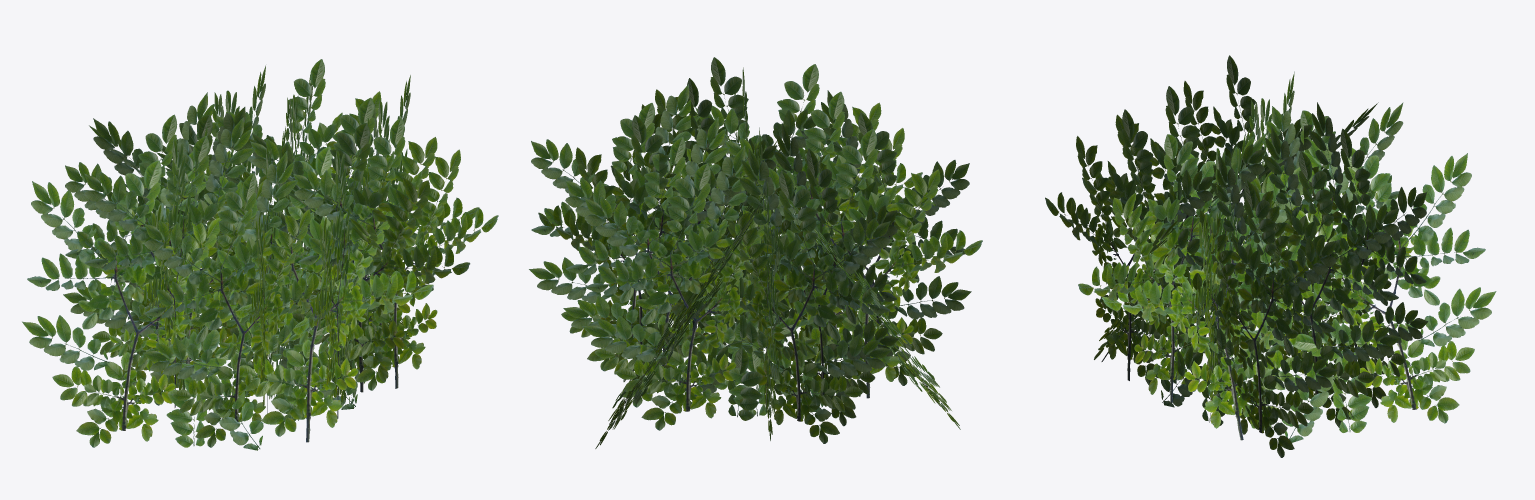
Rendered from bush6.1.fbx.
3 renders of one model, left to right at view 1: azimuth 30°, elevation 25°; view 2: azimuth 150°, elevation 25°; view 3: azimuth 270°, elevation 25°, orthographic.
Parts seen in each view (by area): view 1: Group2, Model, Group1; view 2: Group1, Group2, Model; view 3: Group1, Model, Group2.
Part boxes in pixels (x1=…): Group2: x1=63, y1=59, x2=498, y2=447; Model: x1=22, y1=107, x2=470, y2=450; Group1: x1=138, y1=65, x2=410, y2=418; Group1: x1=529, y1=64, x2=982, y2=430; Group2: x1=538, y1=57, x2=971, y2=443; Model: x1=595, y1=67, x2=960, y2=448; Group1: x1=1045, y1=55, x2=1428, y2=457; Model: x1=1078, y1=102, x2=1496, y2=442; Group2: x1=1187, y1=71, x2=1294, y2=401.
Bounding box in the file's own units: 6.28 × 4.08 × 6.26.
